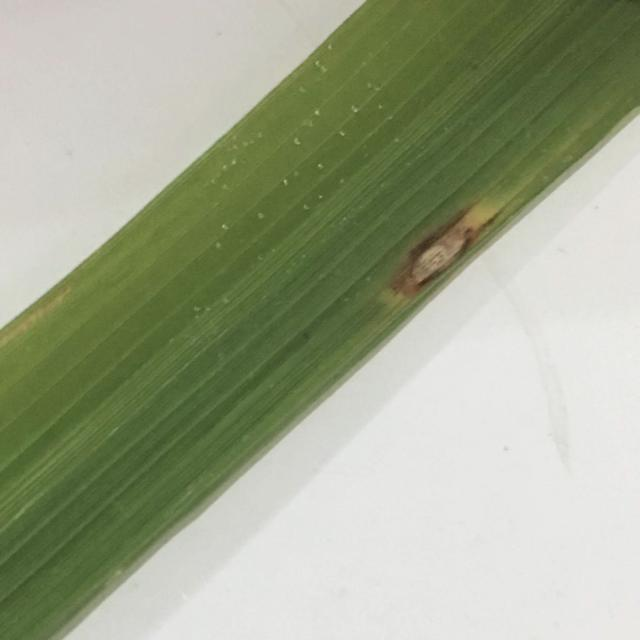Blast: (405, 224, 468, 280)
